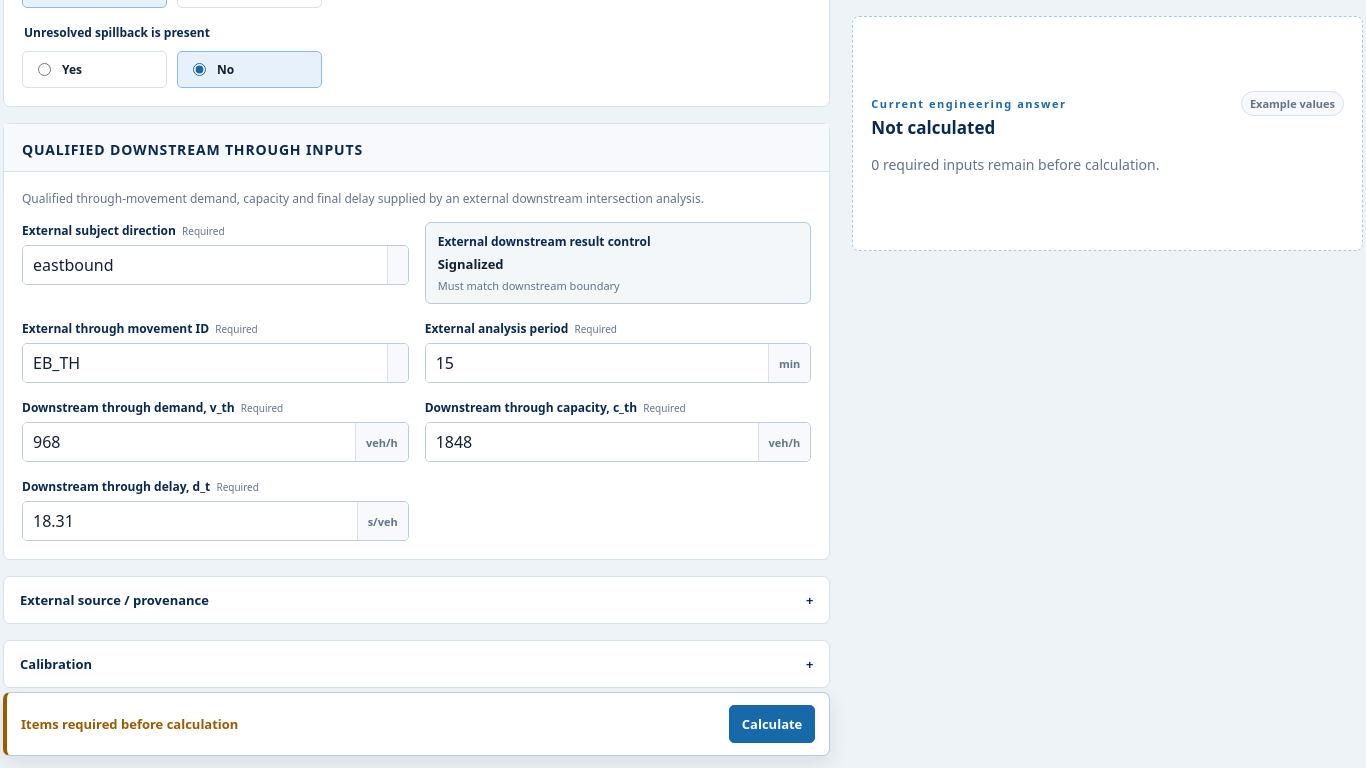
it: LHT production controls › resolves field-aware calibration choices through the production form
The image size is (1366, 768).
(page scrolled)
What coordinates should you click on to do the following:
click the button "Calibration +"
I would click on:
 (56, 664)
Its box is left=4, top=641, right=829, bottom=687.
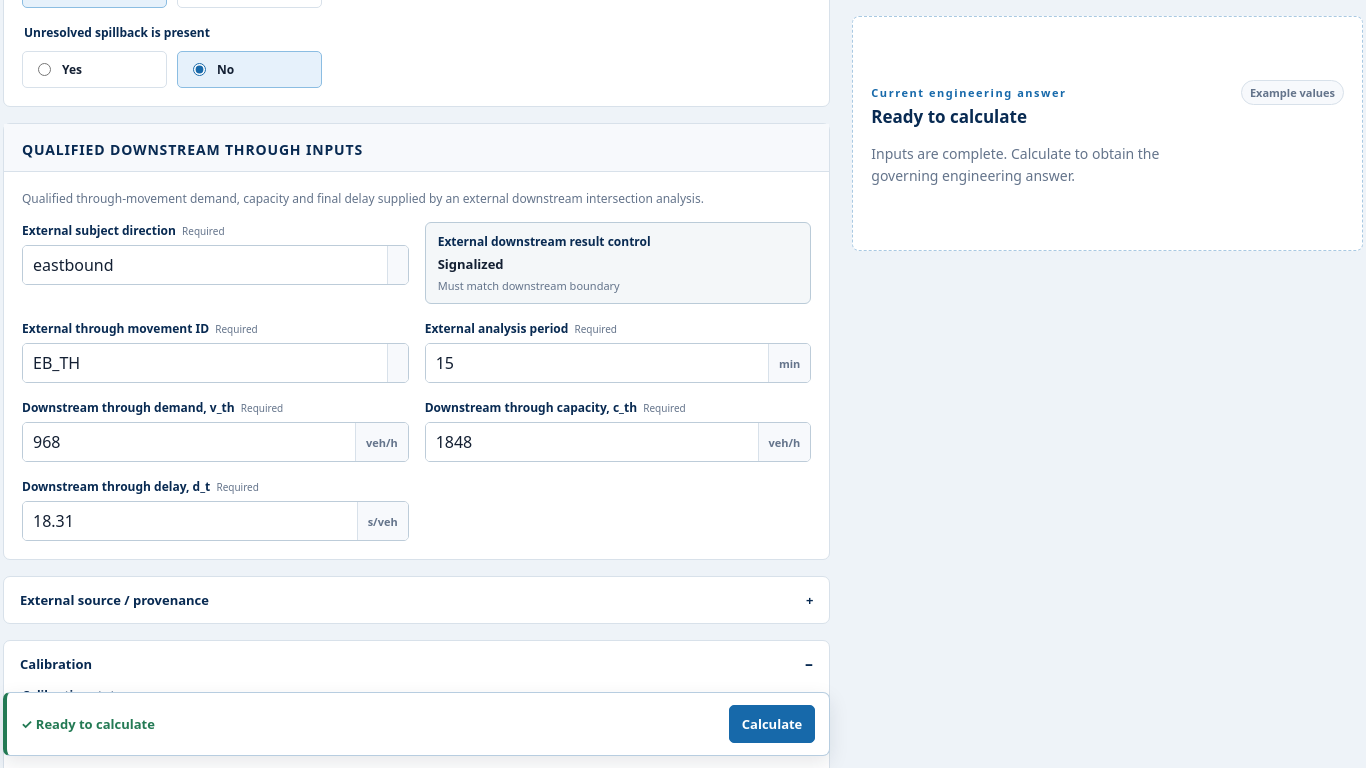
Check: the text "External downstream result control" is shown, box left=438, top=233, right=651, bottom=250
Check: the radio button labelled "HCM reference — not locally calibrated" is shown, box left=36, top=726, right=49, bottom=739
